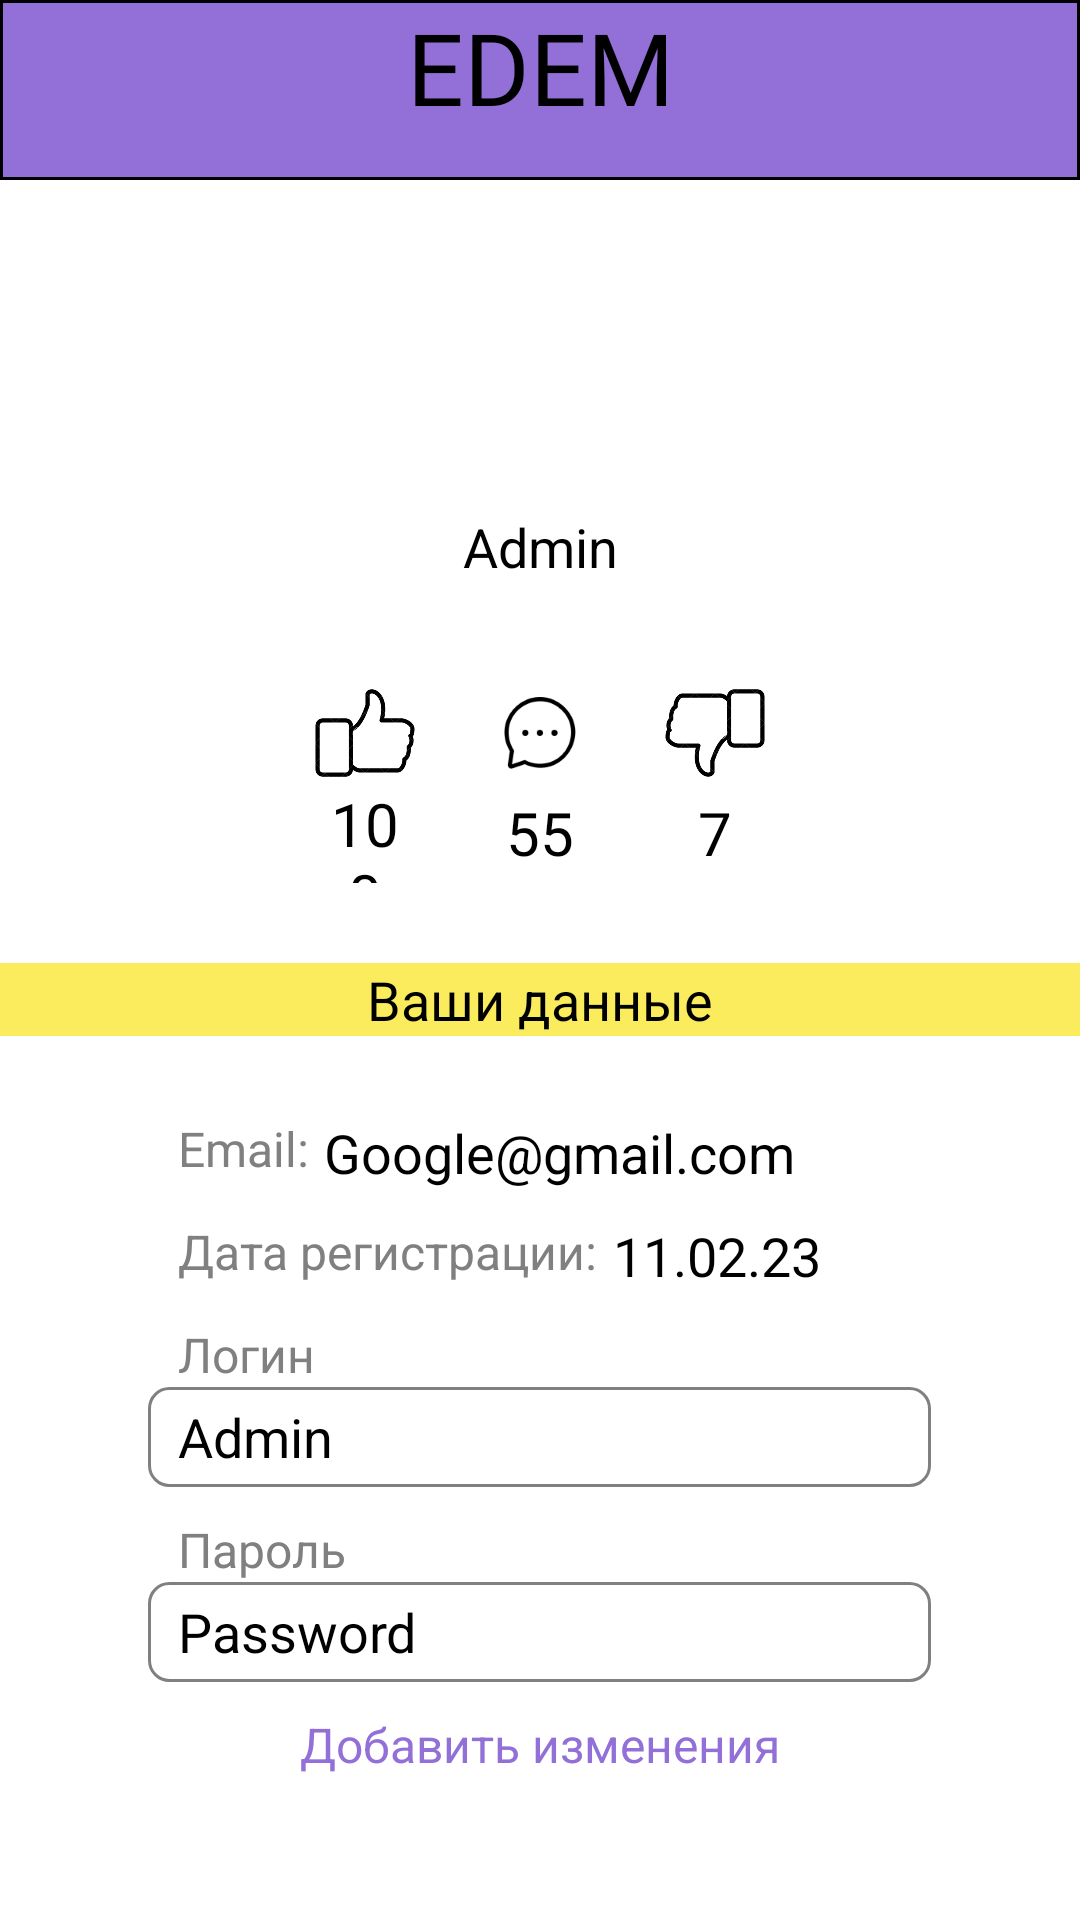

Screen size 1080 x 1920. Icon name, then its box in pixels as (x1=x1, y1=y1, x2=x2, y2=y2):
chat: (x1=504, y1=697, x2=576, y2=769)
dislike: (x1=665, y1=689, x2=765, y2=777)
like: (x1=315, y1=689, x2=415, y2=777)
